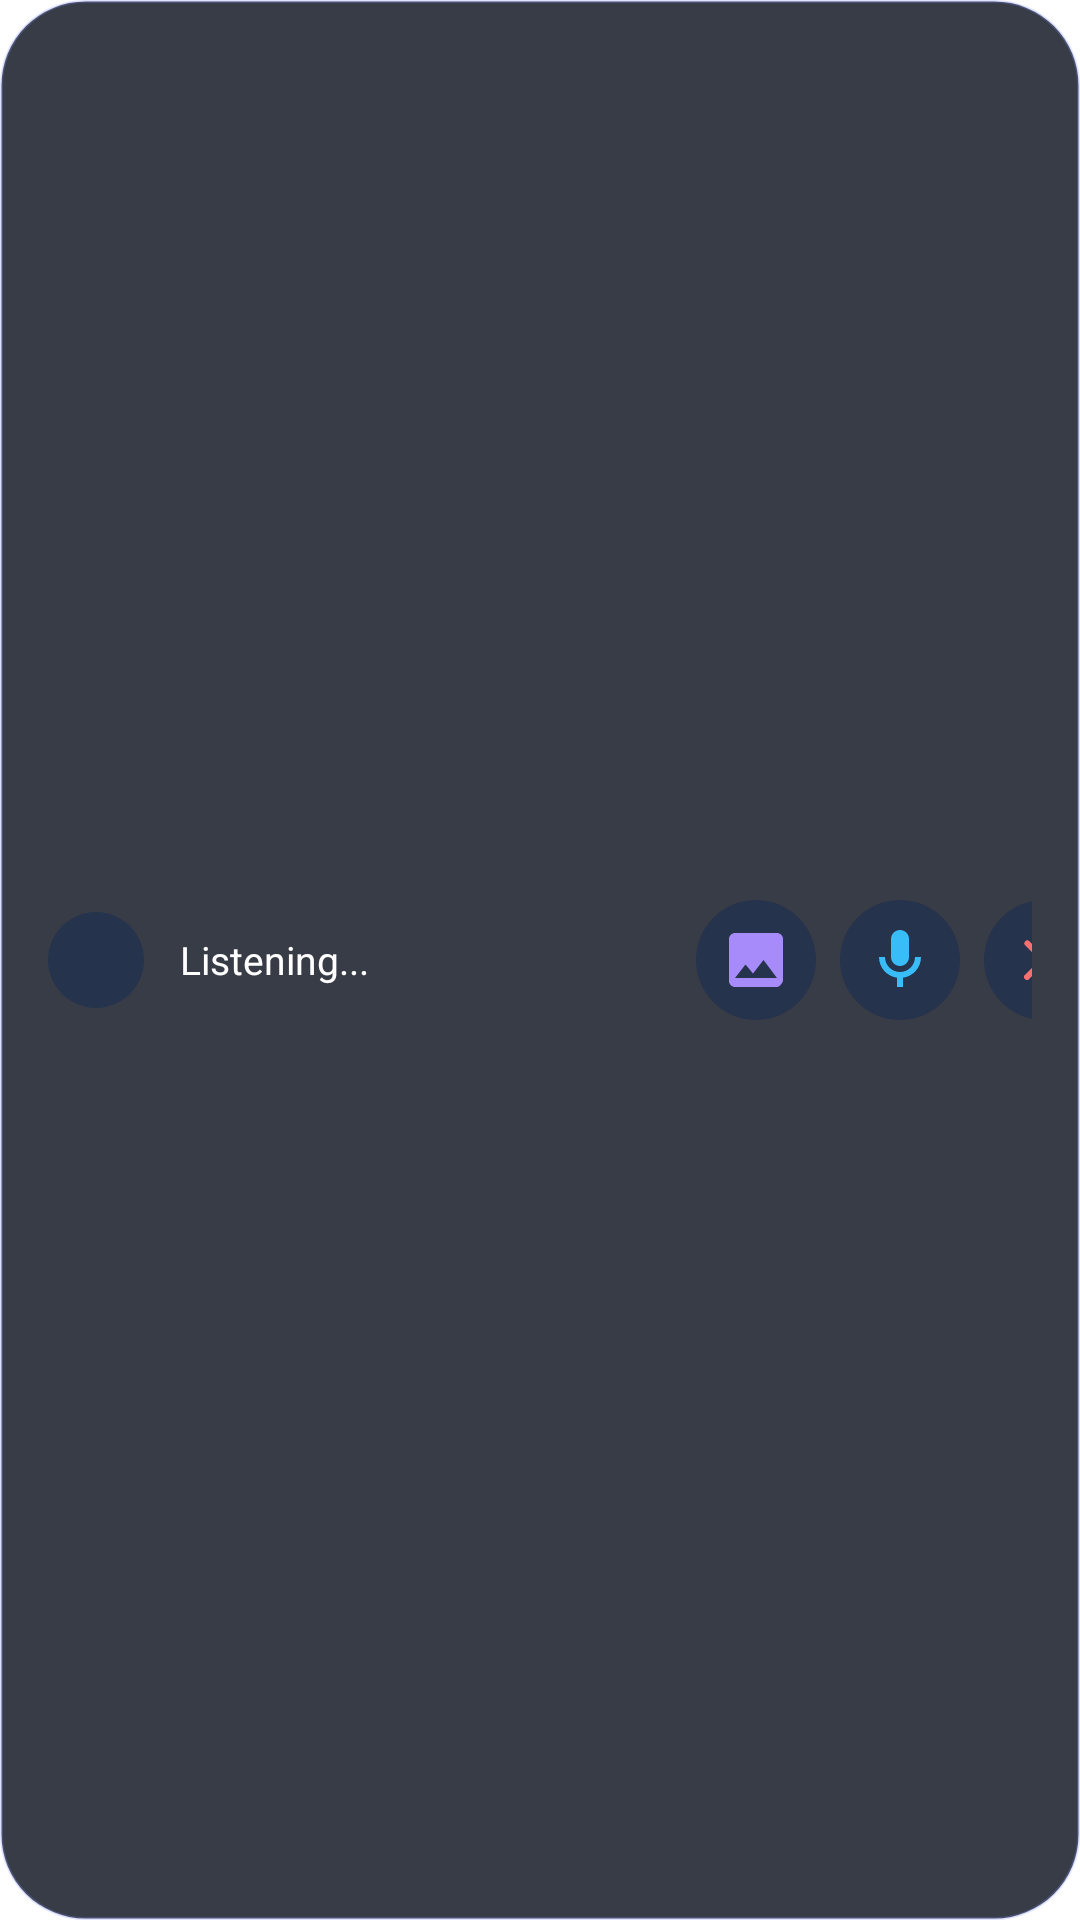

Screen size 1080px x 1920px. Icon name, then its box in pixels as (x1, y1, x2, y2):
Mute Voice: (840, 900, 960, 1020)
